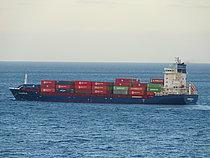Ship: (7, 59, 201, 109)
